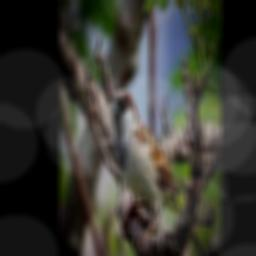Sparrow: (110, 88, 183, 247)
